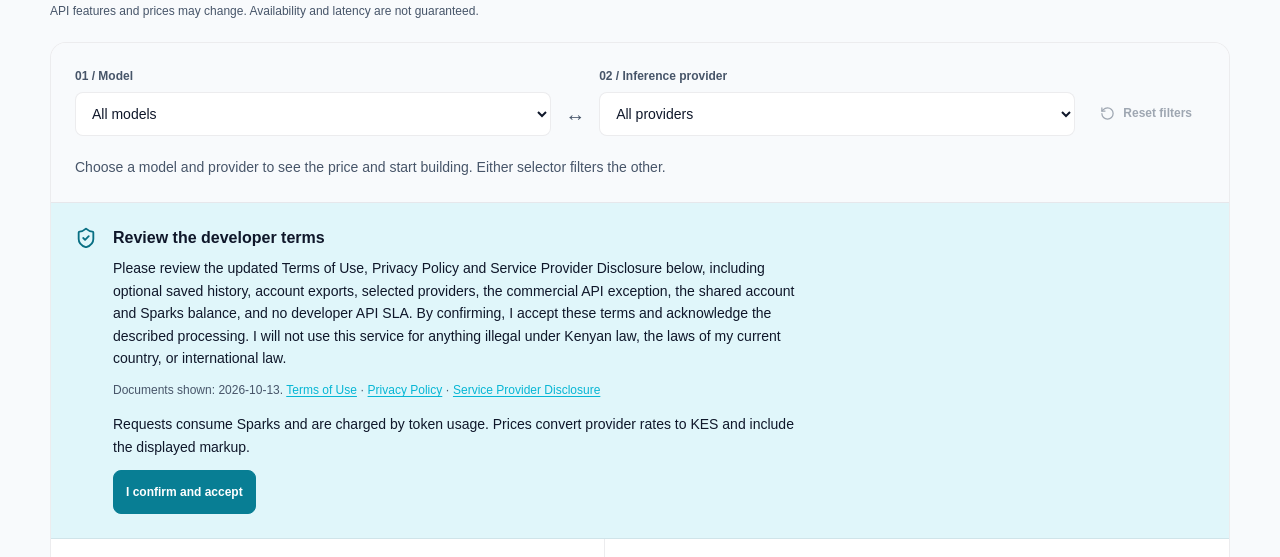
it: authentication and consent › presents updated en documents and billing before explicit acceptance
The image size is (1280, 557).
Expected: the text "Please review the updated Terms of Use, Privacy Policy and Service Provider Disclosure below, including optional saved h" is shown, [113,260,794,366]
Expected: the text "Requests consume Sparks and are charged by token usage. Prices convert provider rates to KES and include the displayed m" is shown, [113,416,794,455]
Click the button "I confirm and accept": click(184, 492) [113,470,256,514]
(page scrolled)
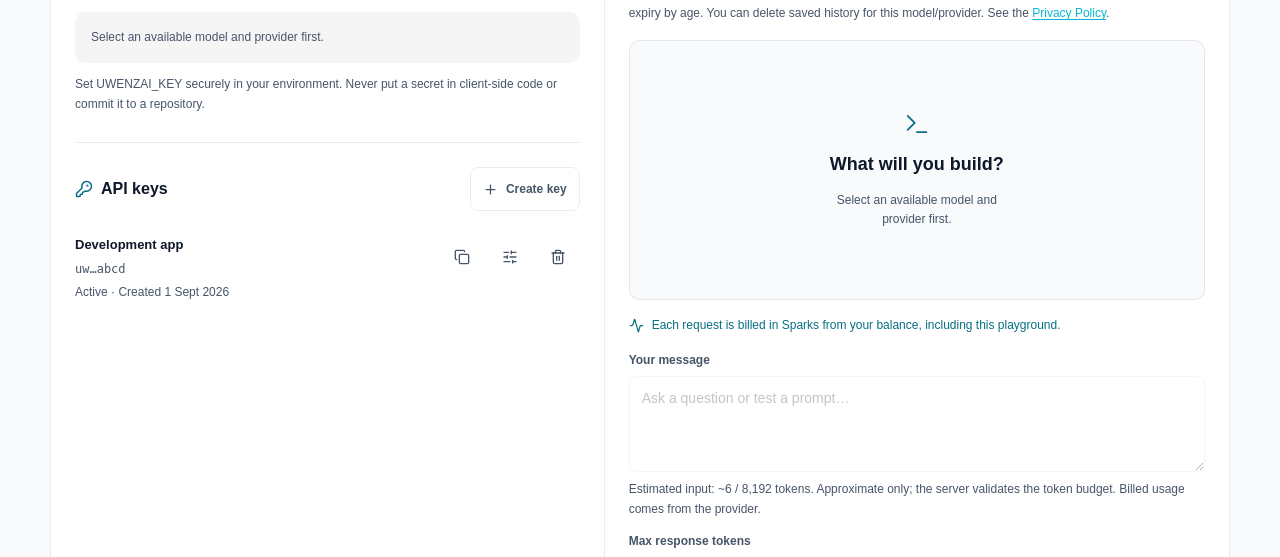
Expected: the text "Development app" is shown, [75,237,183,252]
